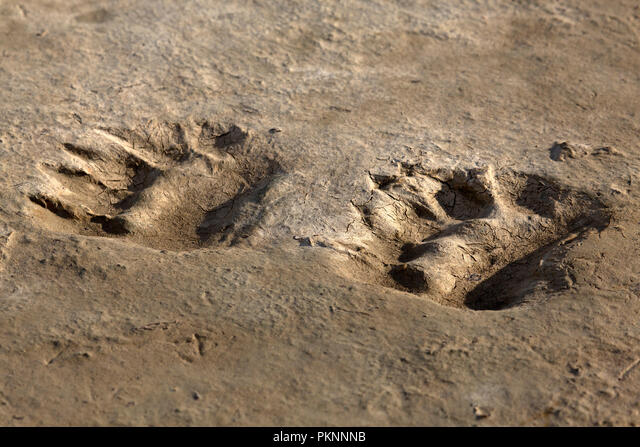bear: (330, 127, 613, 335), (21, 98, 296, 270)
